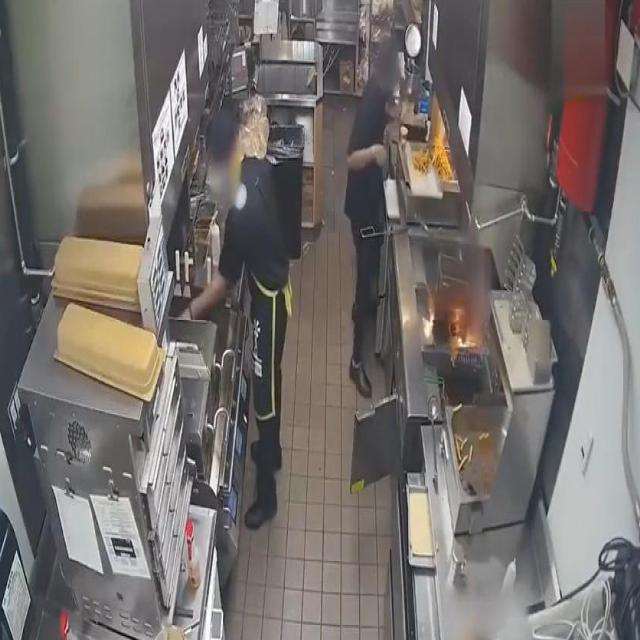fire: (452, 218, 489, 328)
smoke: (456, 334, 474, 352)
